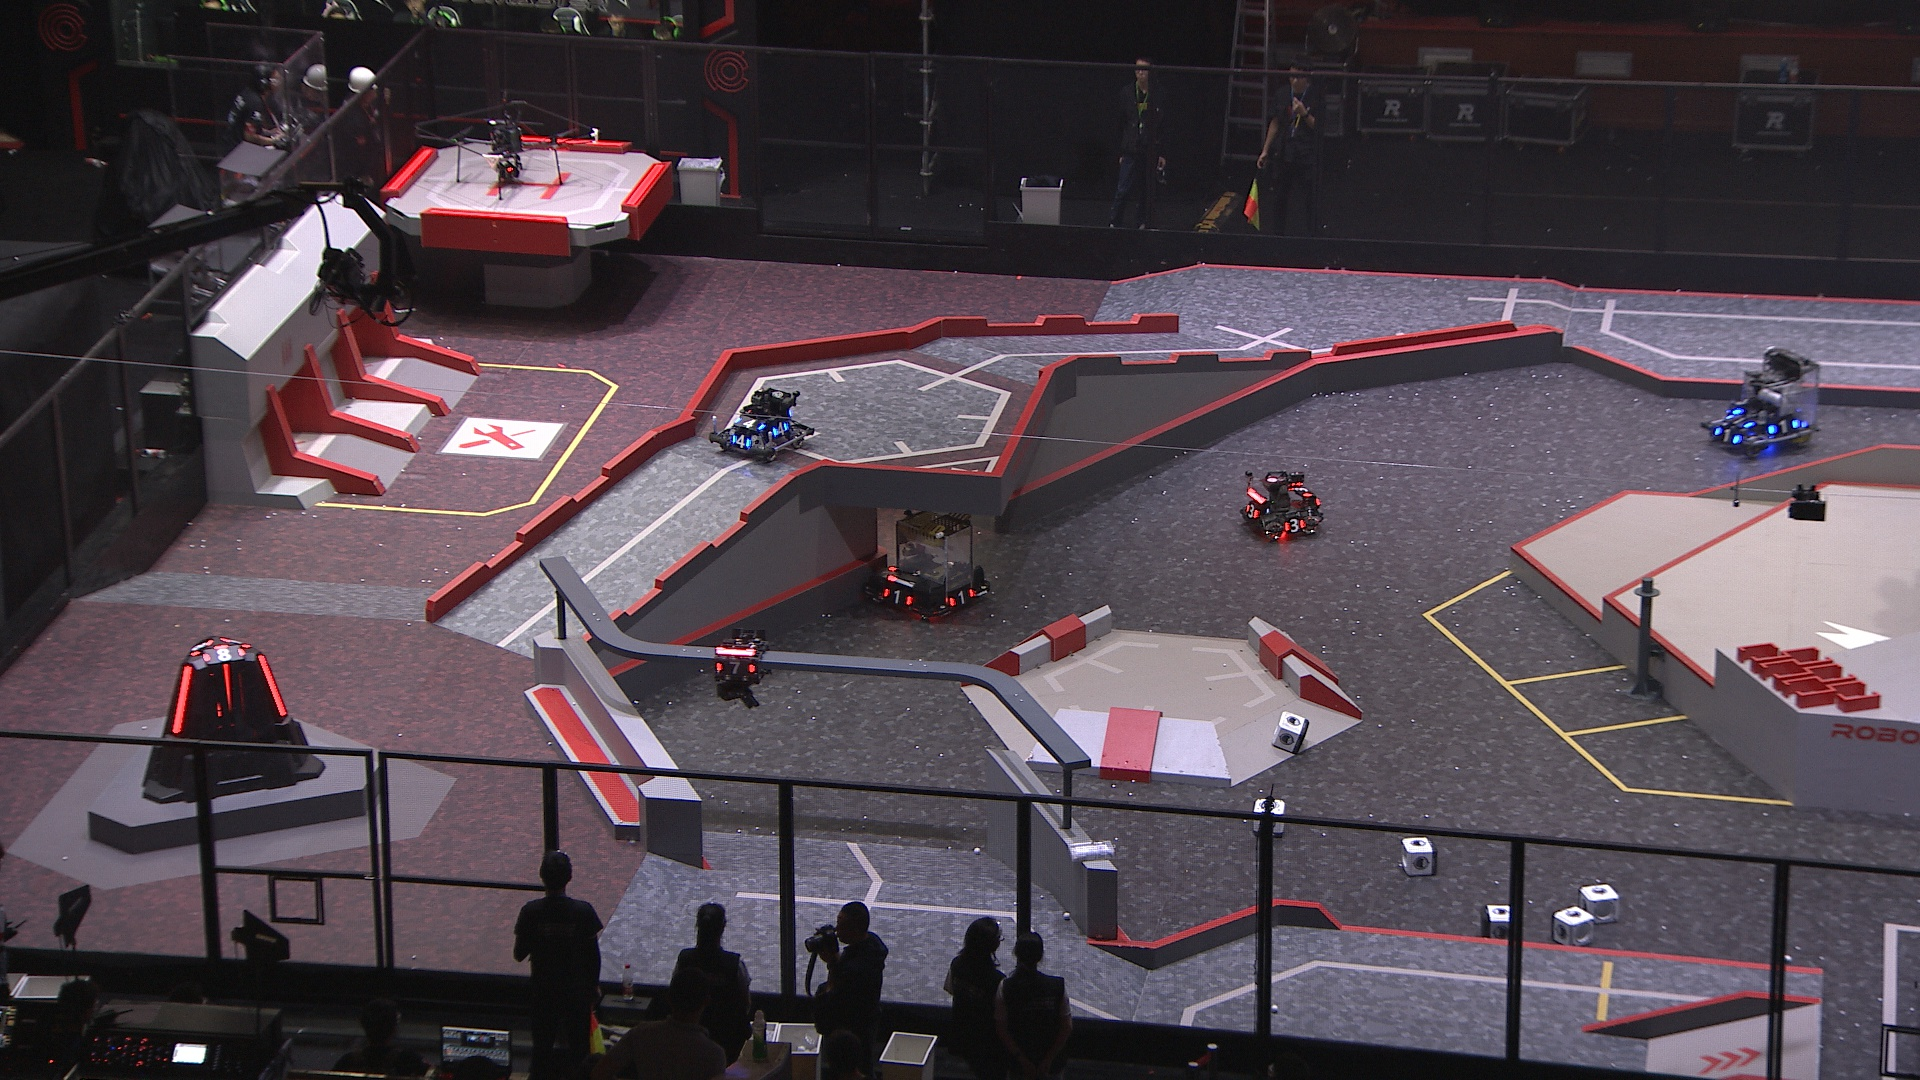armor: (253, 650, 287, 721), (171, 665, 196, 735), (200, 644, 247, 666), (713, 659, 757, 678), (880, 585, 915, 607), (945, 585, 977, 608), (1766, 418, 1803, 436), (1713, 423, 1742, 446), (222, 659, 233, 712), (1726, 411, 1756, 431), (732, 417, 766, 433), (1288, 480, 1313, 500), (1280, 516, 1305, 535), (770, 419, 793, 439), (189, 638, 208, 661), (219, 636, 247, 650), (1242, 498, 1261, 520), (731, 434, 752, 451)
base: (135, 628, 324, 807)
car: (861, 506, 1000, 626), (1698, 342, 1826, 460), (707, 384, 816, 467), (1236, 469, 1323, 541)
watcher: (709, 624, 771, 709)
